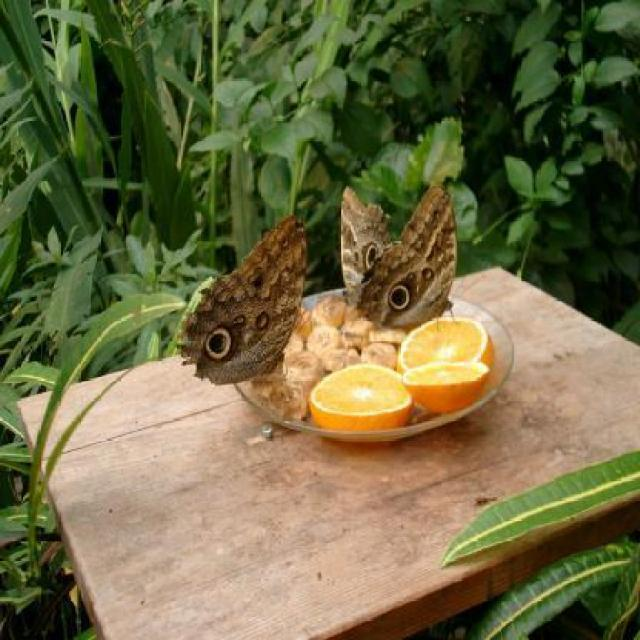Orange: (311, 362, 417, 436), (394, 314, 497, 368), (405, 357, 490, 405)
